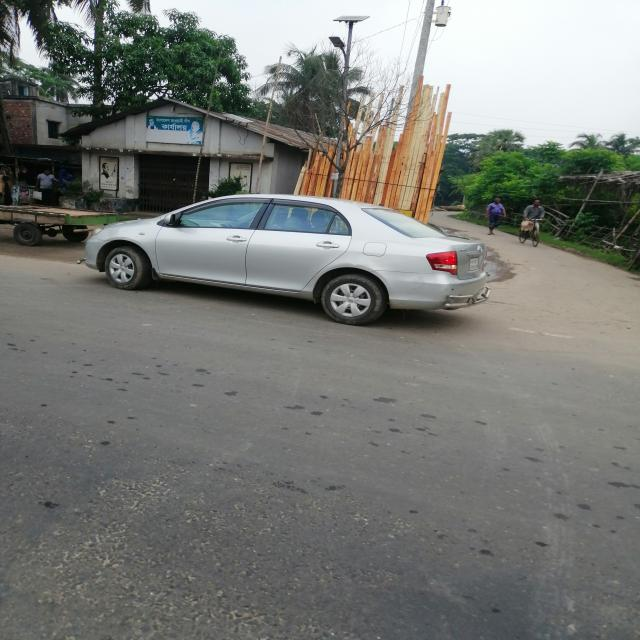Car: (81, 189, 494, 336)
